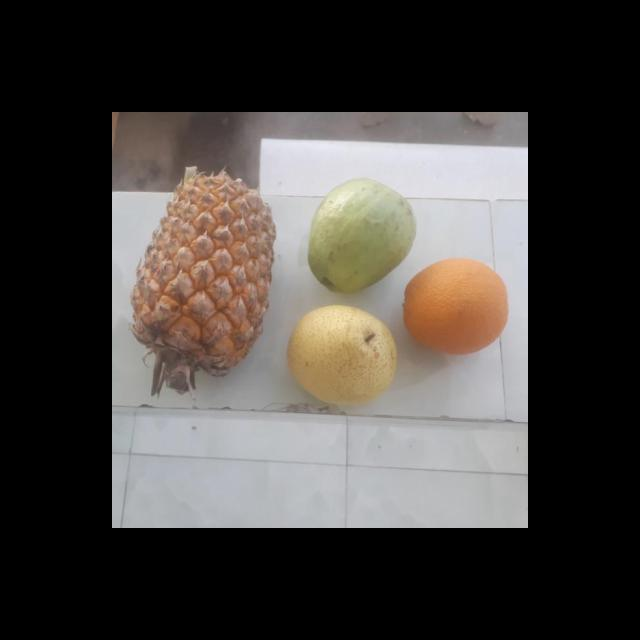guava: (306, 180, 414, 290)
orange: (400, 255, 514, 358)
pear: (280, 304, 397, 410)
pineapple: (134, 175, 269, 378)
